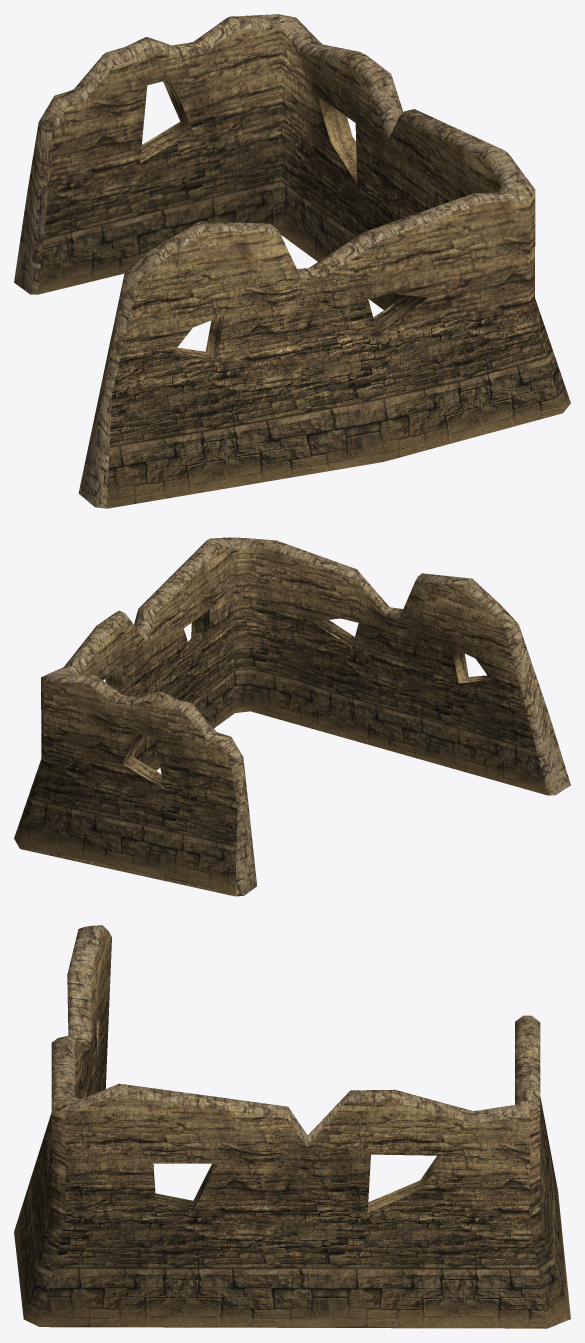
The model's file is SandstoneRuins3.fbx.
The picture shows the model from 3 angles, top to bottom: view 1: azimuth 30°, elevation 25°; view 2: azimuth 150°, elevation 25°; view 3: azimuth 270°, elevation 25°; orthographic projection. The views are drawn at different scales.
Visible parts, largest first — view 1: Object007; view 2: Object007; view 3: Object007.
Part boxes in pixels (x1,y1,x2,y2): Object007: (14, 14, 570, 508); Object007: (14, 537, 570, 896); Object007: (14, 925, 570, 1328).
Bounding box in the file's own units: 613 × 307 × 652.
